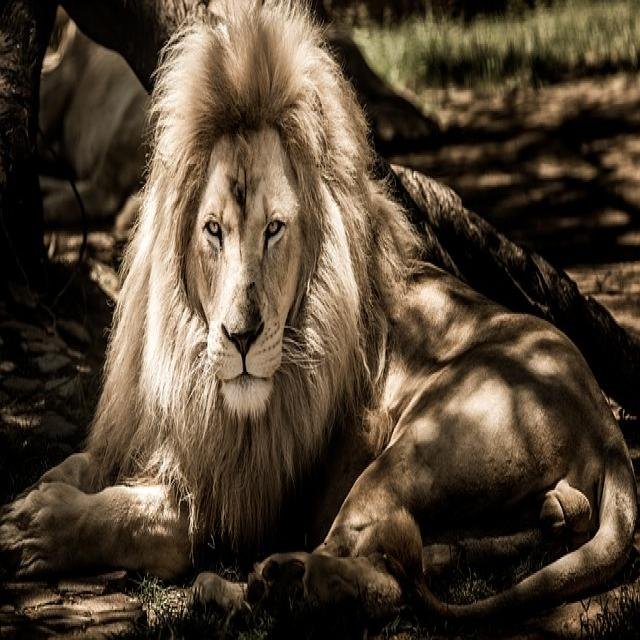Carnivorous: (0, 0, 640, 640), (35, 11, 148, 229)
